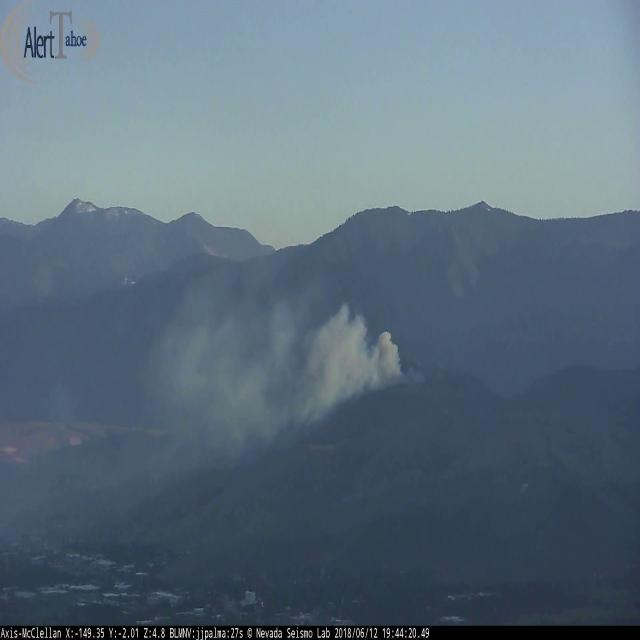smoke: (0, 266, 423, 534)
